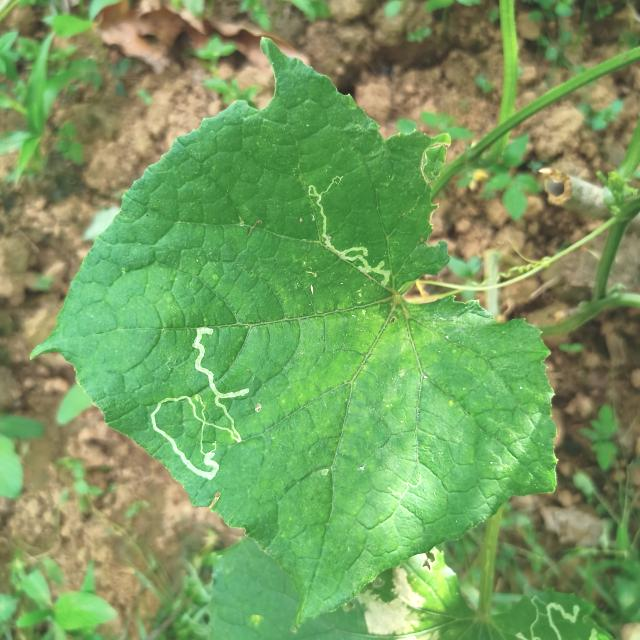disease_cucumber: (352, 561, 428, 638)
